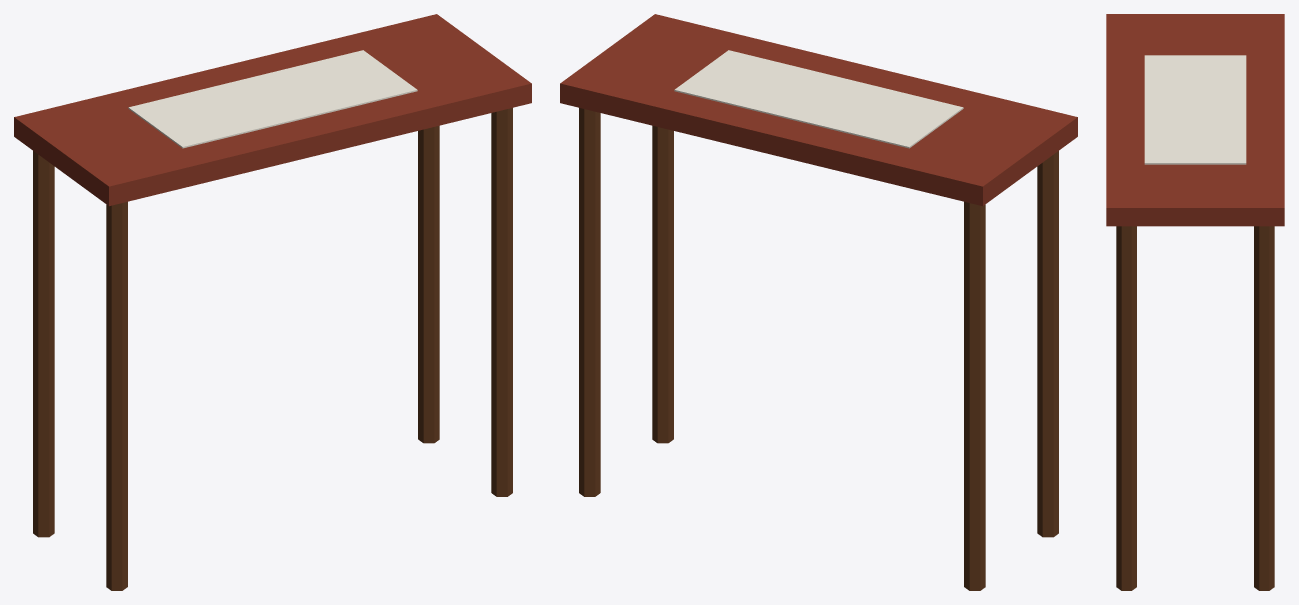
File: hallTable.fbx
3 renders of one model, left to right at view 1: azimuth 30°, elevation 25°; view 2: azimuth 150°, elevation 25°; view 3: azimuth 270°, elevation 25°, orthographic. The views are drawn at different scales.
Parts seen in each view (by area): view 1: hallTable; view 2: hallTable; view 3: hallTable.
Part boxes in pixels (box(x1,y1,x2,y2)): hallTable: box(14, 14, 531, 590); hallTable: box(560, 14, 1077, 590); hallTable: box(1106, 14, 1284, 590).
Bounding box in the file's own units: 3.6 × 3.37 × 1.4.
